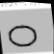no answer: (7, 21, 40, 51)
